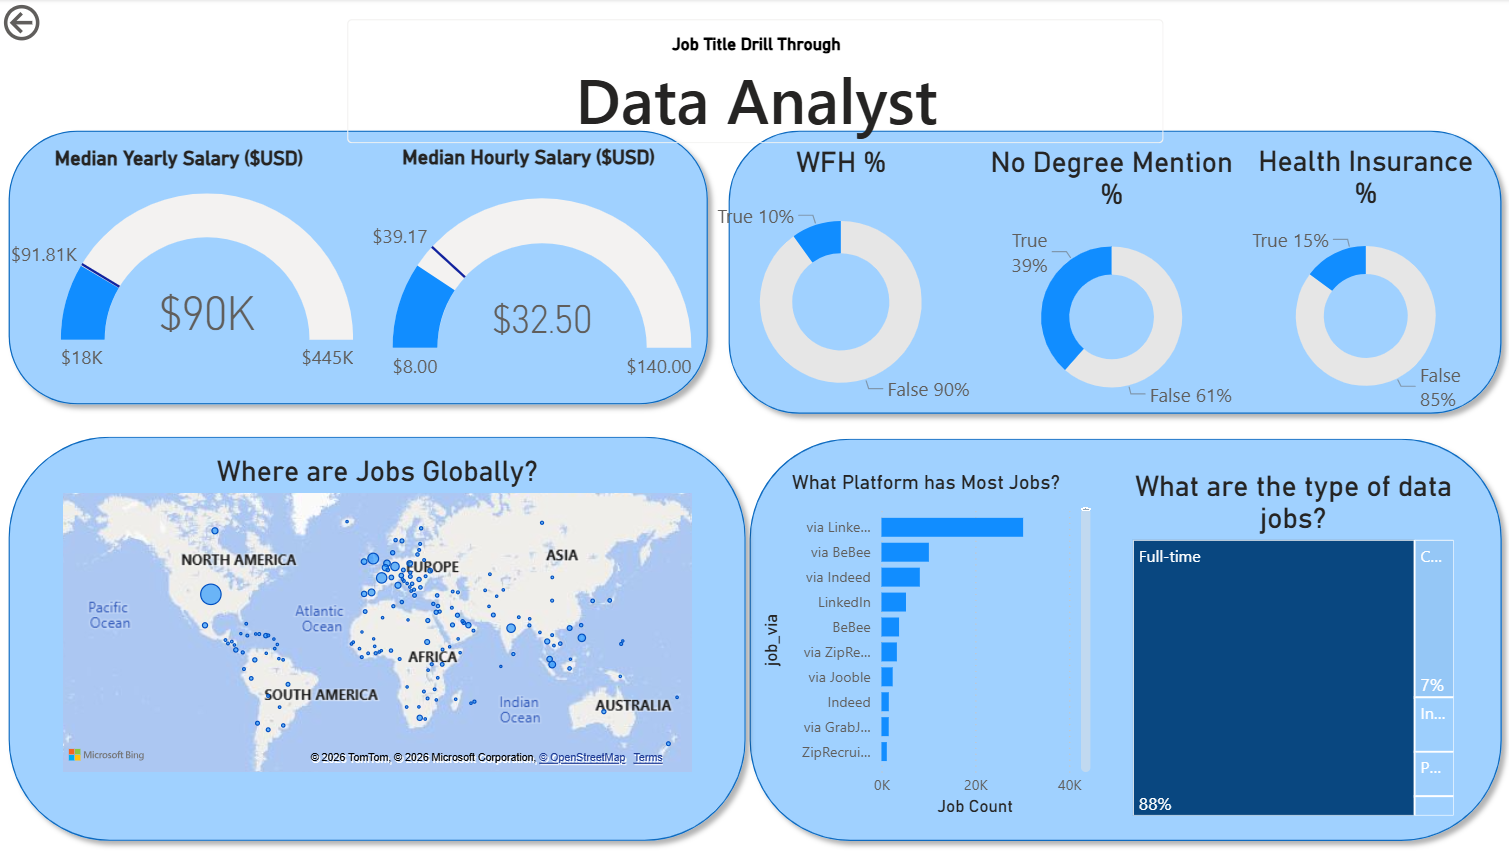

This screenshot's page, from the dashboard's own definition file:
{"tool":"powerbi","page":{"name":"Job Title Drill Through","canvas":[1280,720],"ordinal":1},"visuals":[{"type":"group","id":"g1","title":"Background","box":[0,102.3,1280,618.4],"z":0},{"type":"shape","box":[608.8,102.3,671.2,257.3],"z":0,"group":"g1"},{"type":"cardVisual","fields":{"Data":["Min(job_postings_flat.job_title_short)1"]},"box":[277.6,0,724.7,139.5],"z":1000},{"type":"shape","box":[0,102.3,608.8,249.3],"z":1000,"group":"g1"},{"type":"actionButton","box":[0,0,100,40],"z":2000},{"type":"shape","box":[626.4,362.8,653.6,358],"z":2000,"group":"g1"},{"type":"gauge","title":"Median Yearly Salary ($USD)","fields":{"Y":["Median(job_postings_flat.salary_year_avg)"],"MaxValue":["Max(job_postings_flat.salary_year_avg)1"],"MinValue":["Min(job_postings_flat.salary_year_avg)"],"TargetValue":["Avg(job_postings_flat.salary_year_avg)2"]},"box":[0,124.6,305.2,215.7],"z":3000},{"type":"shape","box":[0,361.2,640.8,359.6],"z":3000,"group":"g1"},{"type":"donutChart","title":"No Degree Mention %","fields":{"Category":["job_postings_flat.job_no_degree_mention"],"Y":["CountNonNull(job_postings_flat.job_work_from_home)"]},"box":[832.6,124.6,217.3,234.9],"z":4000},{"type":"donutChart","title":"Health Insurance %","fields":{"Category":["job_postings_flat.job_health_insurance"],"Y":["CountNonNull(job_postings_flat.job_work_from_home)"]},"box":[1049.9,123,212.5,234.9],"z":5000},{"type":"donutChart","title":"WFH %","fields":{"Category":["job_postings_flat.job_work_from_home"],"Y":["CountNonNull(job_postings_flat.job_work_from_home)"]},"box":[591.3,124.6,241.3,236.5],"z":6000},{"type":"map","title":"Where are Jobs Globally?","fields":{"Category":["job_postings_flat.job_country"],"Size":["CountNonNull(job_postings_flat.job_title_short)"]},"box":[49.5,385.1,541.7,273.3],"z":7000},{"type":"treemap","title":"What are the type of data jobs?","fields":{"Group":["job_postings_flat.job_schedule_type"],"Values":["CountNonNull(job_postings_flat.job_schedule_type)"]},"box":[954,397.9,281.2,297.2],"z":8000},{"type":"barChart","title":"What Platform has Most Jobs?","fields":{"Category":["job_postings_flat.job_via"],"Y":["CountNonNull(job_postings_flat.job_via)"]},"box":[640.8,397.9,287.6,297.2],"z":9000},{"type":"gauge","title":"Median Hourly Salary ($USD)","fields":{"Y":["Median(job_postings_flat.salary_hour_avg)"],"MinValue":["Min(job_postings_flat.salary_hour_avg)1"],"MaxValue":["Max(job_postings_flat.salary_hour_avg)2"],"TargetValue":["Avg(job_postings_flat.salary_hour_avg)3"]},"box":[305.2,123,286,228.5],"z":10000}]}

Visuals, with their boxes in screenshot pixels (x1, y1, x2, y2), scaled from the page's 1280x720 canvas onto the 1509x851 screenshot:
"Background" group: 0:121:1508:850
shape: 718:121:1508:425
cardVisual - Min(job_postings_flat.job_title_short)1: 327:0:1182:165
shape: 0:121:718:416
actionButton: 0:0:118:47
shape: 738:429:1508:850
"Median Yearly Salary ($USD)" gauge: 0:147:360:402
shape: 0:427:755:850
"No Degree Mention %" donutChart: 982:147:1238:425
"Health Insurance %" donutChart: 1238:145:1488:423
"WFH %" donutChart: 697:147:982:427
"Where are Jobs Globally?" map: 58:455:697:778
"What are the type of data jobs?" treemap: 1125:470:1456:822
"What Platform has Most Jobs?" barChart: 755:470:1094:822
"Median Hourly Salary ($USD)" gauge: 360:145:697:415
